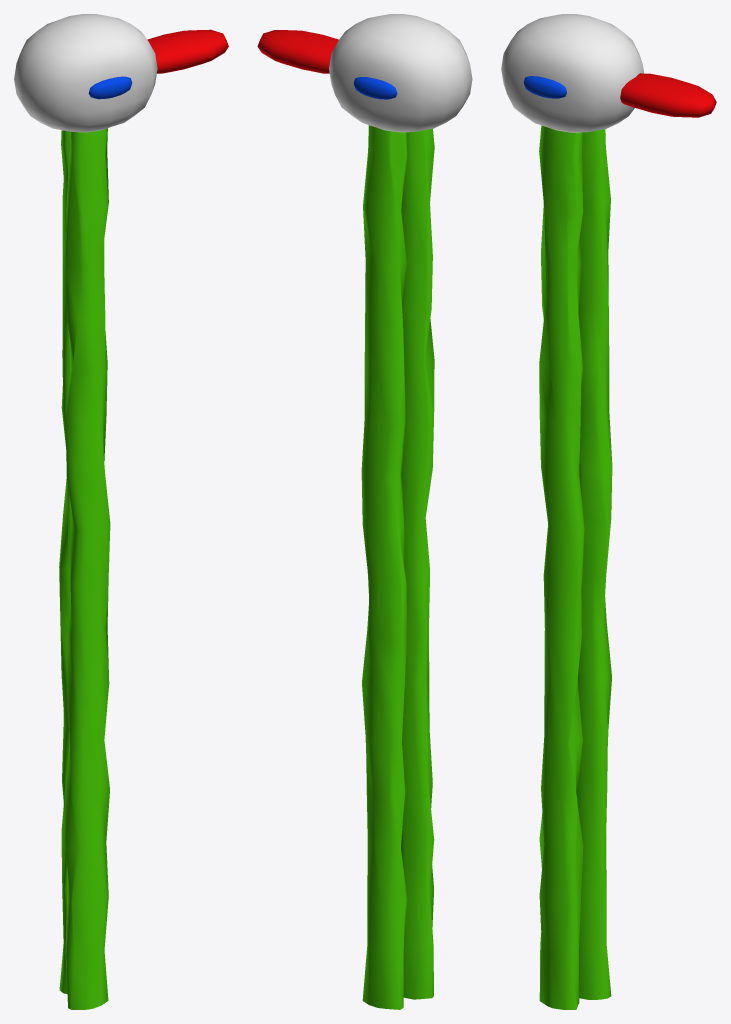
Rendered from LONGBIRD.fbx.
3 renders of one model, left to right at view 1: azimuth 30°, elevation 25°; view 2: azimuth 150°, elevation 25°; view 3: azimuth 330°, elevation 25°, orthographic.
Visible parts, largest first — view 1: Cylinder, Sphere, Cylinder.001, Sphere.003, Sphere.001; view 2: Cylinder.001, Cylinder, Sphere, Sphere.003, Sphere.002; view 3: Cylinder, Cylinder.001, Sphere, Sphere.003, Sphere.001.
Boxes of the visible parts, box(x1,y1,x2,y2) form: Cylinder: box(64, 128, 110, 1009); Sphere: box(14, 14, 157, 132); Cylinder.001: box(59, 130, 70, 993); Sphere.003: box(147, 29, 228, 73); Sphere.001: box(88, 76, 132, 99); Cylinder.001: box(361, 125, 407, 1009); Cylinder: box(401, 128, 434, 999); Sphere: box(329, 14, 472, 132); Sphere.003: box(257, 30, 338, 73); Sphere.002: box(353, 77, 397, 99); Cylinder: box(539, 125, 584, 1009); Cylinder.001: box(577, 129, 612, 999); Sphere: box(501, 14, 644, 132); Sphere.003: box(620, 73, 716, 117); Sphere.001: box(523, 76, 566, 98).
Bounding box in the file's own units: 359 × 1636 × 188.
